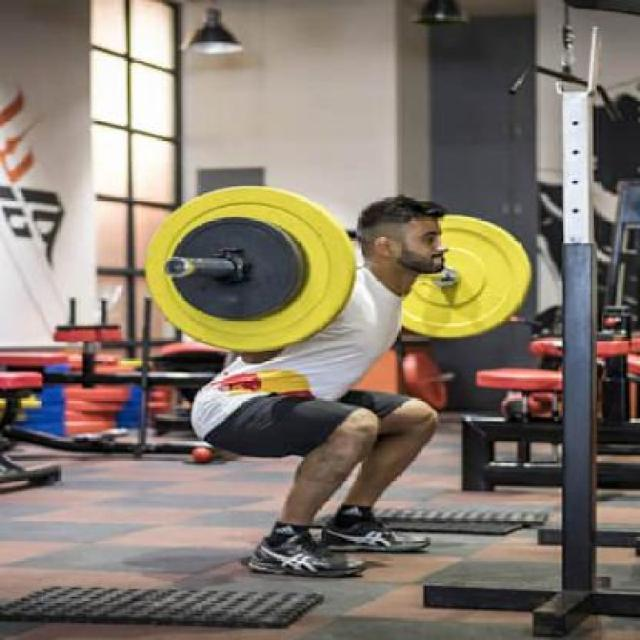barbell: (140, 179, 367, 356)
